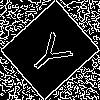Y: (25, 24, 81, 80)
